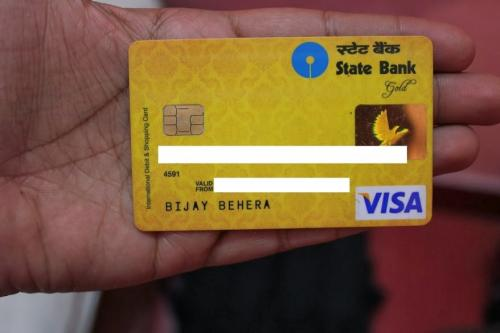tarjeta: (127, 34, 434, 232)
